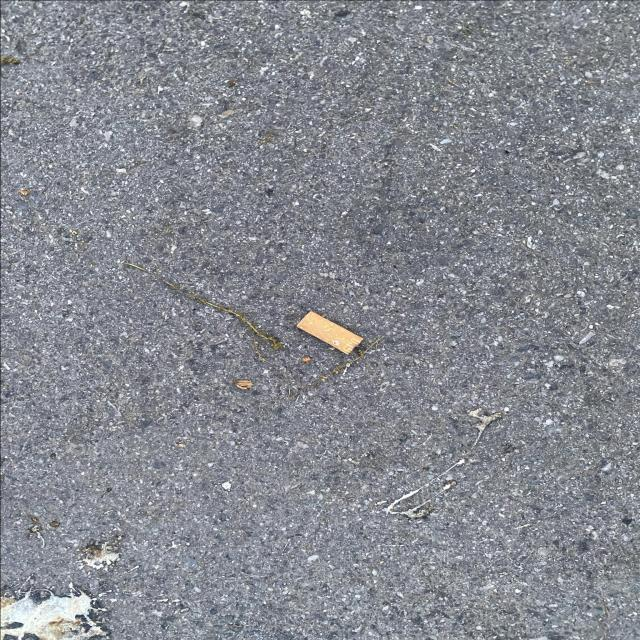other waste: (295, 310, 364, 356)
